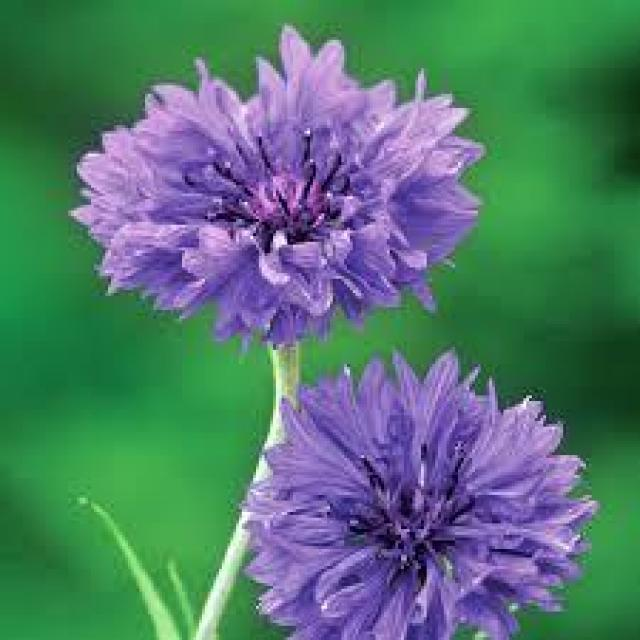organic waste: (54, 40, 526, 327), (258, 363, 604, 630)
